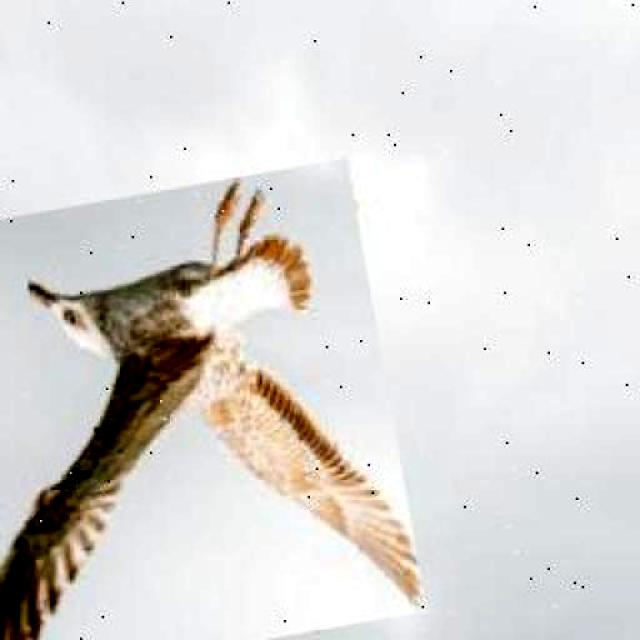airplane: (0, 159, 425, 640)
